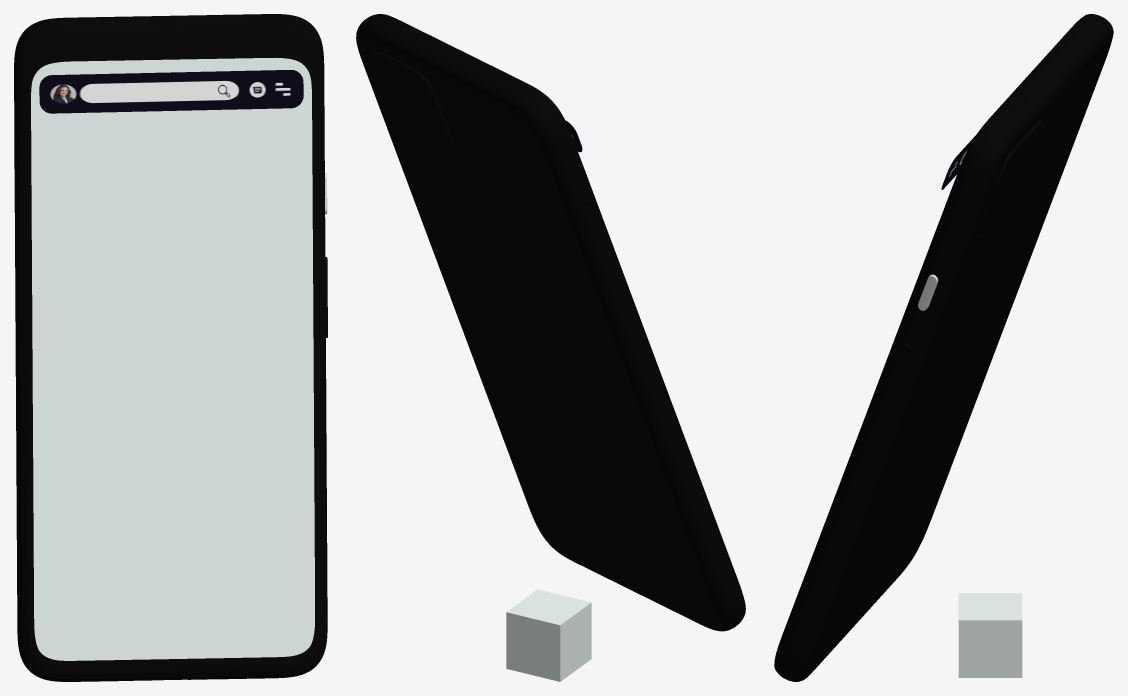
File: mobileui.glb
3 renders of one model, left to right at view 1: azimuth 30°, elevation 25°; view 2: azimuth 150°, elevation 25°; view 3: azimuth 270°, elevation 25°, orthographic. The views are drawn at different scales.
Visible parts, largest first — view 1: 001_Screen, 007_Front_Frame, 004_Main_Body, 000_header; view 2: 003_Back_Panel, 004_Main_Body, 001_Screen, 009_Camera_Body, 008_Camera_Rim; view 3: 003_Back_Panel, 004_Main_Body, 001_Screen, 009_Camera_Body, 007_Front_Frame, 008_Camera_Rim.
Part boxes in pixels (bbox=[...]): 001_Screen: bbox=[31, 58, 314, 660]; 007_Front_Frame: bbox=[21, 21, 323, 677]; 004_Main_Body: bbox=[14, 14, 327, 681]; 000_header: bbox=[39, 70, 303, 113]; 003_Back_Panel: bbox=[357, 33, 721, 629]; 004_Main_Body: bbox=[356, 14, 745, 631]; 001_Screen: bbox=[506, 589, 591, 681]; 009_Camera_Body: bbox=[368, 53, 450, 153]; 008_Camera_Rim: bbox=[367, 50, 454, 154]; 003_Back_Panel: bbox=[802, 31, 1112, 678]; 004_Main_Body: bbox=[774, 14, 1113, 681]; 001_Screen: bbox=[958, 593, 1022, 677]; 009_Camera_Body: bbox=[979, 123, 1042, 235]; 007_Front_Frame: bbox=[774, 18, 1081, 662]; 008_Camera_Rim: bbox=[976, 120, 1043, 237].
Bounding box in the file's own units: 12.78 × 21.81 × 10.62.
Materials: 13 (3 with a texture image).
